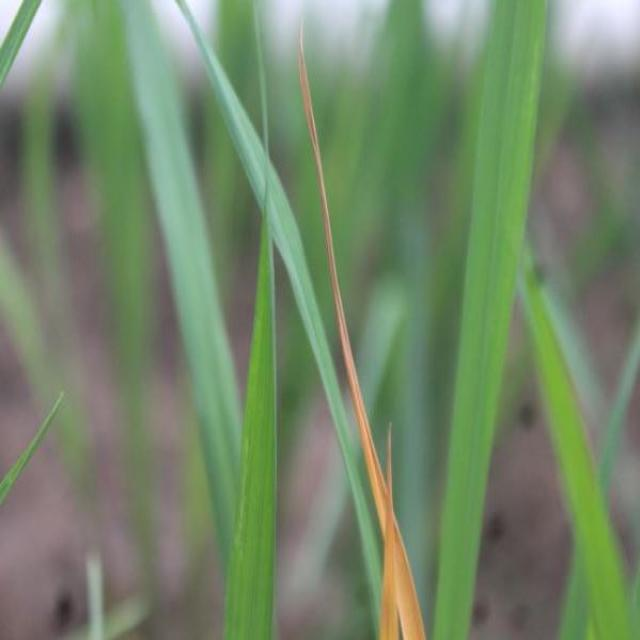Tungro: (290, 23, 426, 640)
